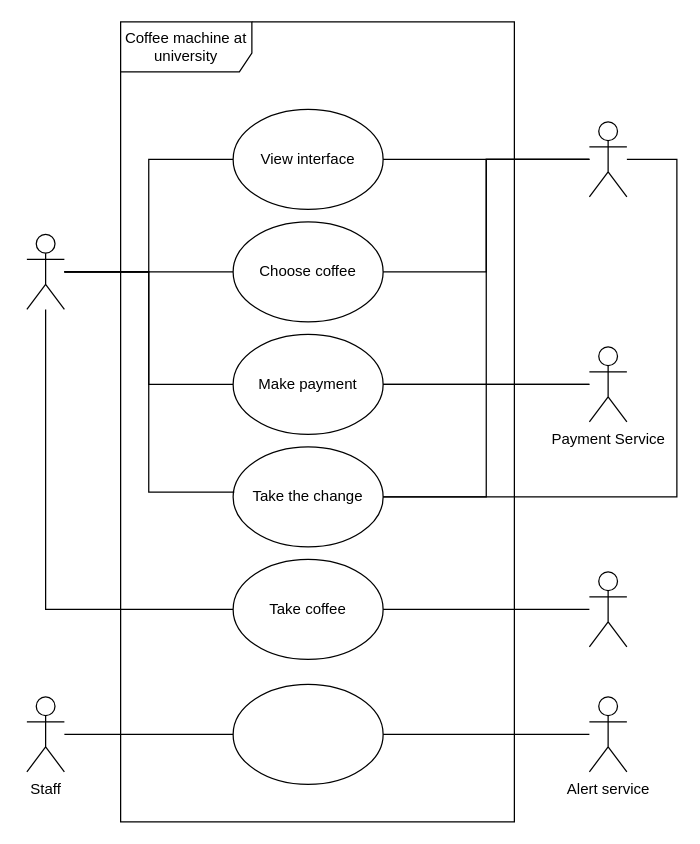
Some shapes in this 700 by 844 pixel diagram are drawn without their labels. The centre of each missing label's shape, as x and y in pixels:
"Coffee service" goes at point 607,609.
"Person" goes at point 45,271.
"Refill supplies" goes at point 307,733.
"UserInterface" goes at point 607,159.
